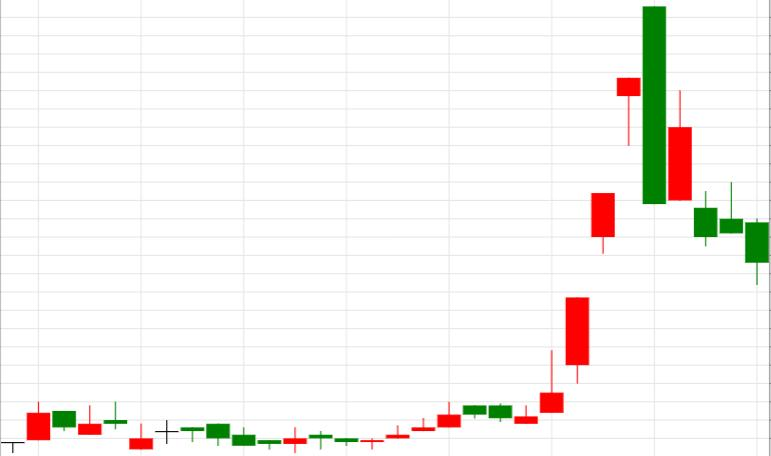bearish_engulfing_fall: (514, 6, 666, 424)
